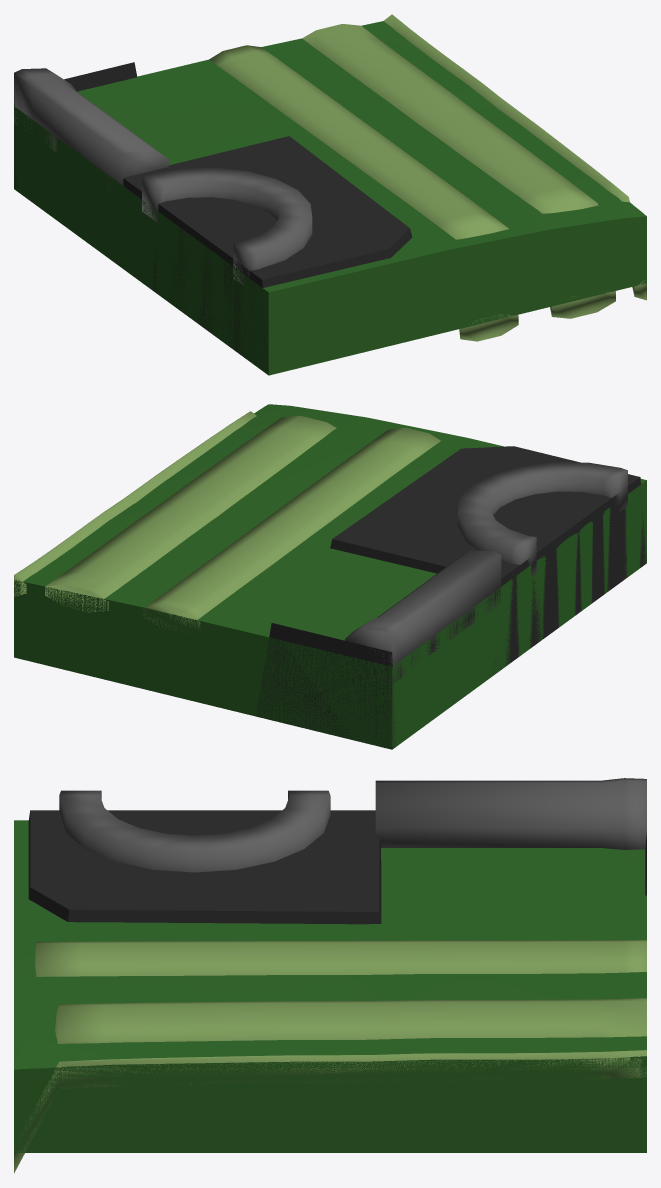
The model's file is newshj-233.glb.
The picture shows the model from 3 angles, top to bottom: view 1: azimuth 30°, elevation 25°; view 2: azimuth 150°, elevation 25°; view 3: azimuth 270°, elevation 25°; orthographic projection. The views are drawn at different scales.
Visible parts, largest first — view 1: newshj-233; view 2: newshj-233; view 3: newshj-233.
Part boxes in pixels (x1,y1,x2,y2): newshj-233: (14, 14, 646, 375); newshj-233: (14, 404, 646, 749); newshj-233: (14, 778, 646, 1173).
Size of the model in its own units: 2 by 0.6854 by 2.33.
